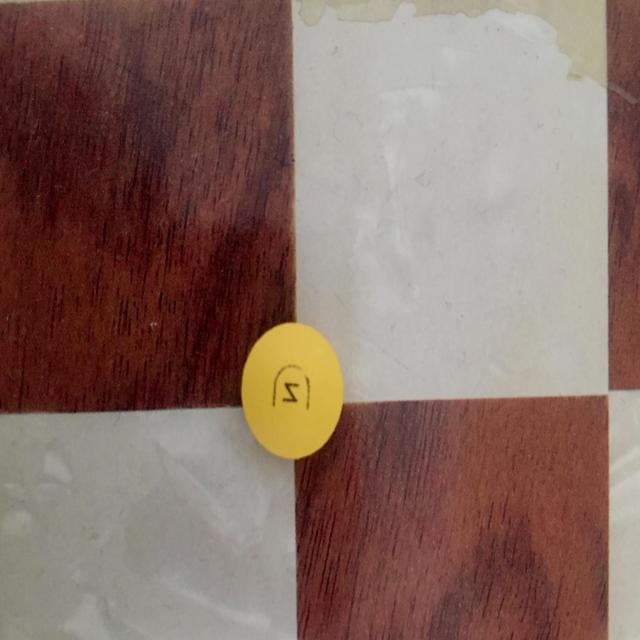pill: (238, 322, 344, 462)
